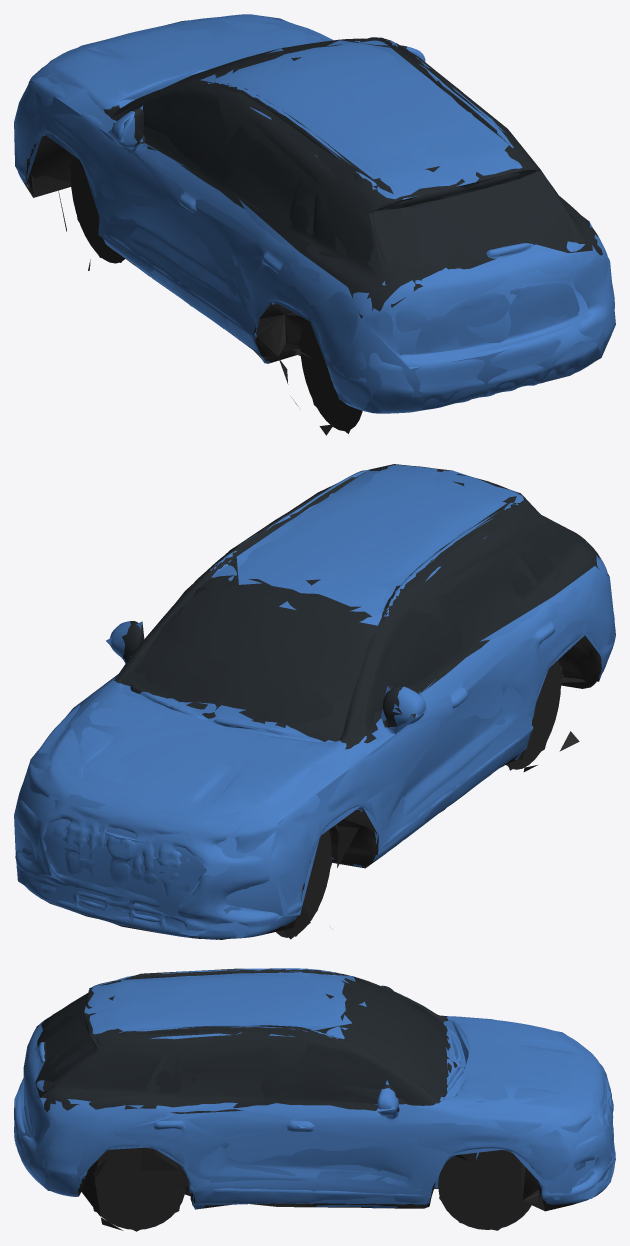
File: audi-q3.glb
The picture shows the model from 3 angles, top to bottom: view 1: azimuth 30°, elevation 25°; view 2: azimuth 150°, elevation 25°; view 3: azimuth 270°, elevation 25°; orthographic projection. The views are drawn at different scales.
Parts seen in each view (by area): view 1: body, far; view 2: body, far; view 3: body, far.
Boxes of the visible parts, box(x1,y1,x2,y2) form: body: box(15, 14, 614, 435); far: box(14, 14, 615, 433); body: box(15, 464, 615, 939); far: box(14, 464, 615, 939); body: box(14, 968, 615, 1230); far: box(14, 968, 615, 1231).
Size of the model in its own units: 2.1 by 1.69 by 4.62.
